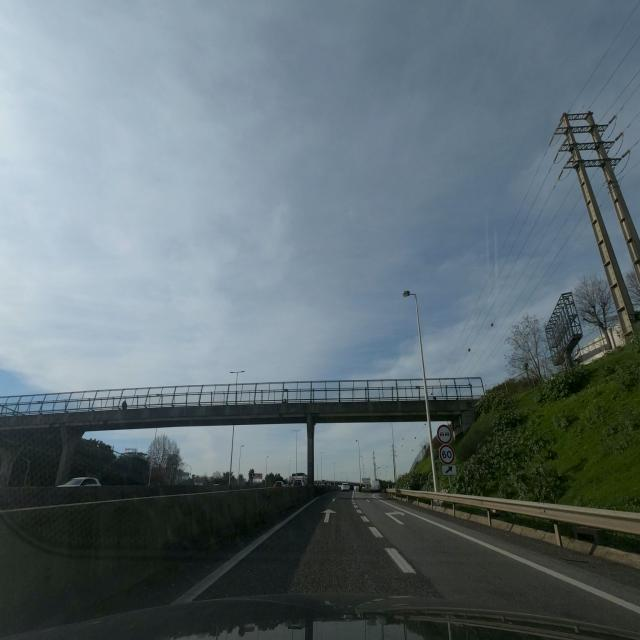car: (60, 476, 102, 486)
